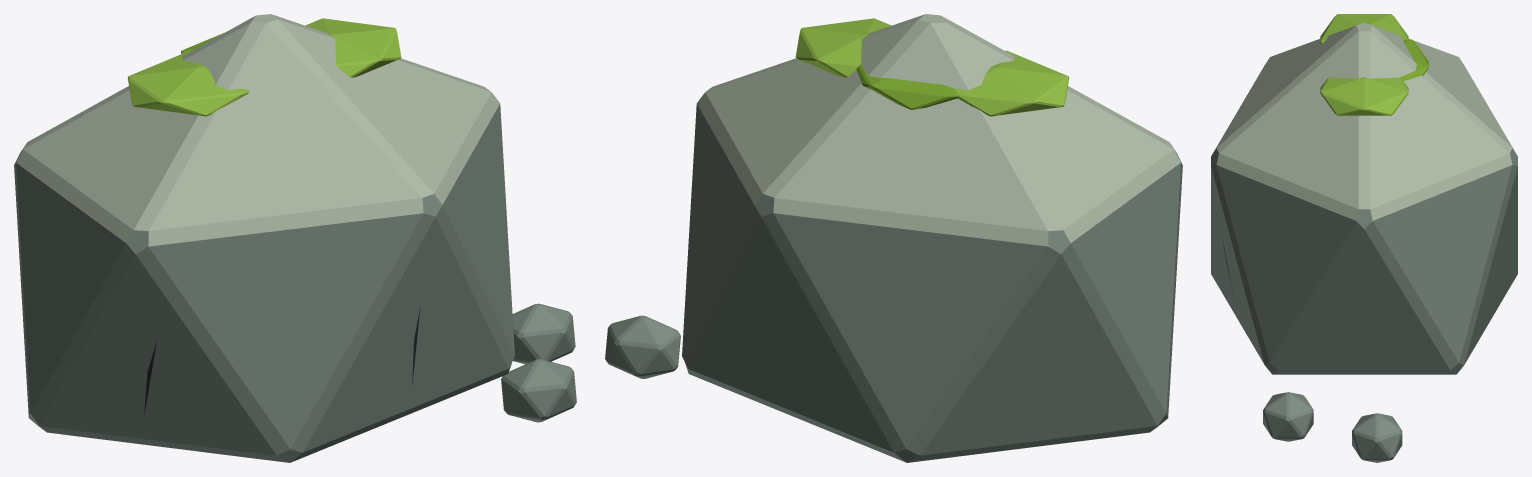
The model's file is rock-2.glb.
The picture shows the model from 3 angles, left to right: view 1: azimuth 30°, elevation 25°; view 2: azimuth 150°, elevation 25°; view 3: azimuth 270°, elevation 25°; orthographic projection. The views are drawn at different scales.
Visible parts, largest first — view 1: Rock 2.001, Rock 2 moss patch 0.001, Rock 2 pebble 0.001, Rock 2 moss patch 2.001, Rock 2 pebble 1.001; view 2: Rock 2.001, Rock 2 moss patch 0.001, Rock 2 pebble 1.001, Rock 2 moss patch 2.001, Rock 2 moss patch 1.001; view 3: Rock 2.001, Rock 2 moss patch 2.001, Rock 2 pebble 0.001, Rock 2 pebble 1.001, Rock 2 moss patch 0.001, Rock 2 moss patch 1.001.
Boxes of the visible parts, <box> form: Rock 2.001: <box>14,14,514,462</box>; Rock 2 moss patch 0.001: <box>127,52,249,116</box>; Rock 2 pebble 0.001: <box>501,359,576,422</box>; Rock 2 moss patch 2.001: <box>305,18,401,77</box>; Rock 2 pebble 1.001: <box>512,303,575,364</box>; Rock 2.001: <box>682,14,1182,462</box>; Rock 2 moss patch 0.001: <box>954,50,1068,116</box>; Rock 2 pebble 1.001: <box>605,315,680,378</box>; Rock 2 moss patch 2.001: <box>795,18,891,77</box>; Rock 2 moss patch 1.001: <box>856,64,958,109</box>; Rock 2.001: <box>1211,22,1517,374</box>; Rock 2 moss patch 2.001: <box>1320,77,1408,115</box>; Rock 2 pebble 0.001: <box>1263,392,1313,441</box>; Rock 2 pebble 1.001: <box>1352,413,1402,462</box>; Rock 2 moss patch 0.001: <box>1320,14,1408,44</box>; Rock 2 moss patch 1.001: <box>1399,39,1428,81</box>.
Size of the model in its own units: 1.95 by 1.43 by 1.21.
